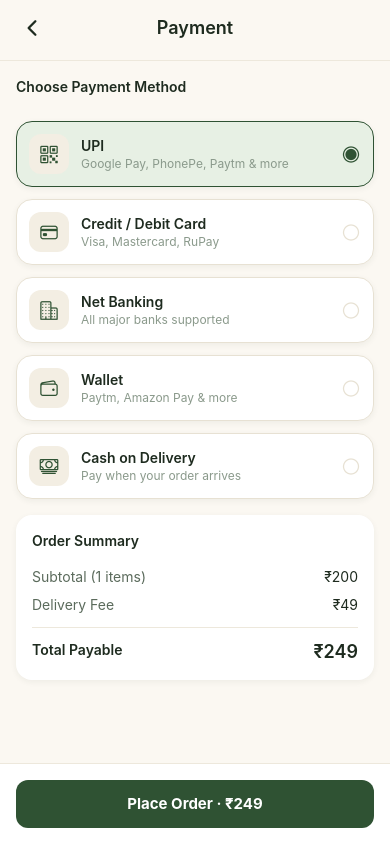
Test: CheckoutPaymentScreen › order placement failure and cancellation › shows an error and does not navigate or clear the cart when placing the order fails
What coordinates should you click on to do the following:
click the button "Place Order · ₹249"
I would click on:
 (195, 804)
Its box is [16,780,374,828].
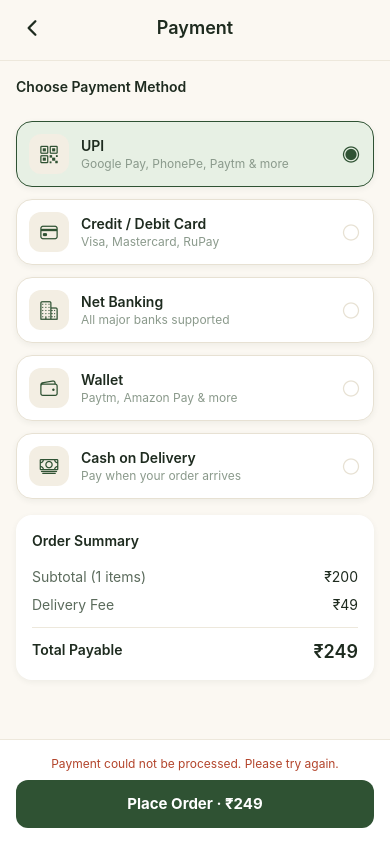
Expected: the button named "Go back" is shown, [12,8,52,48]
Now the text "Payment could not be processed. Please try again." is shown, box [51,756,339,771]
